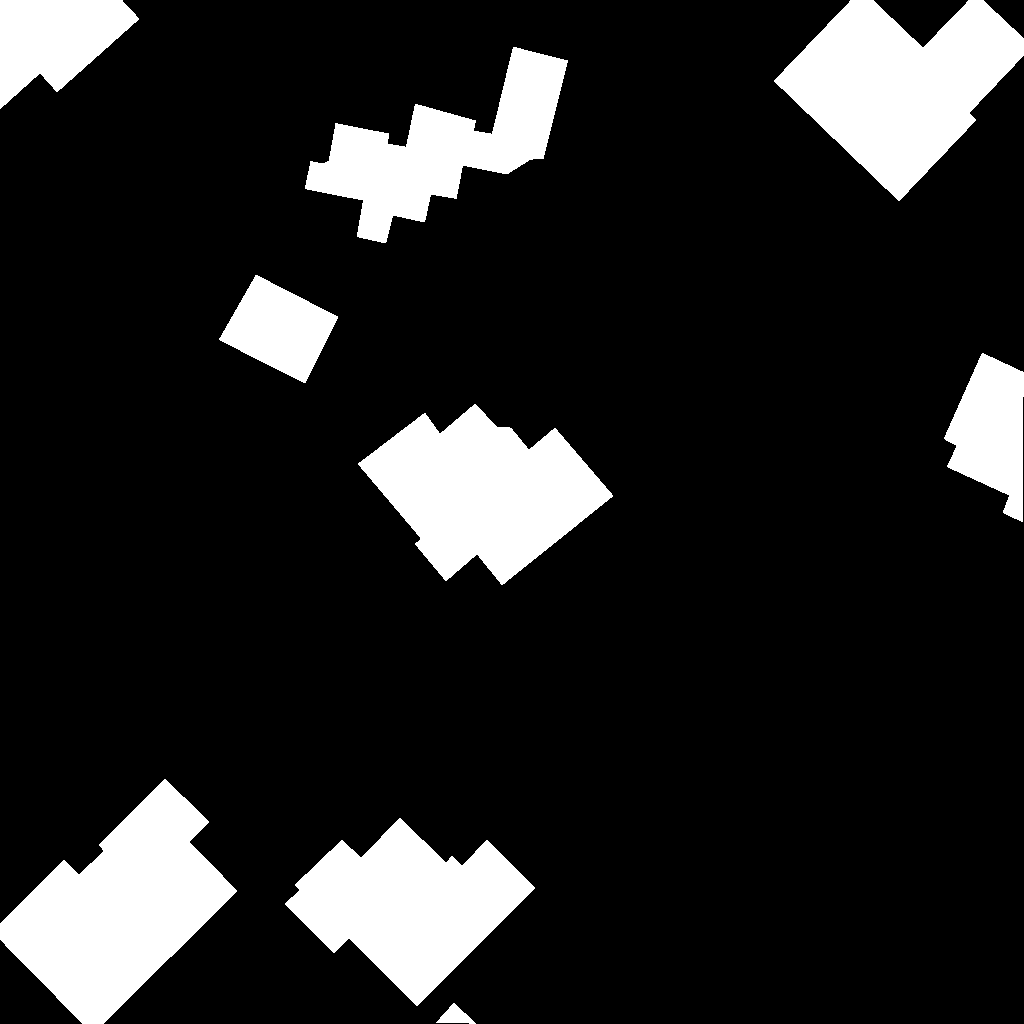building: (0, 779, 238, 1024), (305, 47, 569, 244), (774, 0, 1024, 202), (285, 818, 536, 1007), (358, 404, 614, 586), (0, 0, 140, 110), (944, 353, 1024, 523), (219, 275, 339, 384), (436, 1003, 517, 1024)
